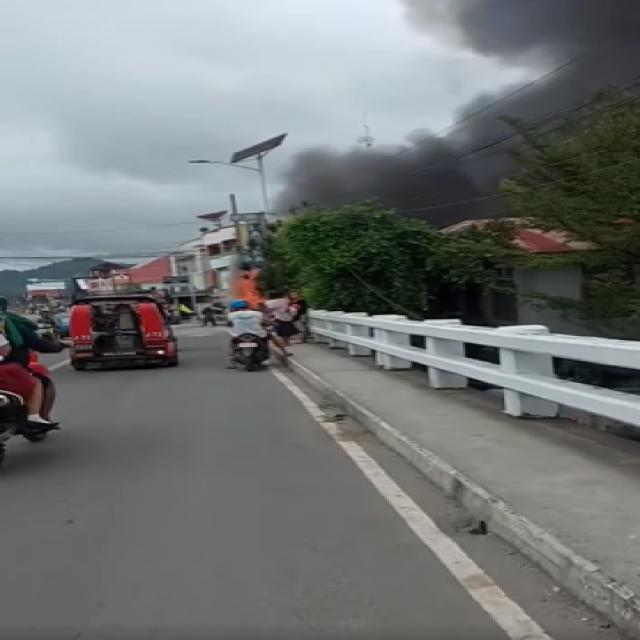Smoke: (421, 0, 640, 86), (302, 154, 497, 214), (456, 98, 546, 169)
